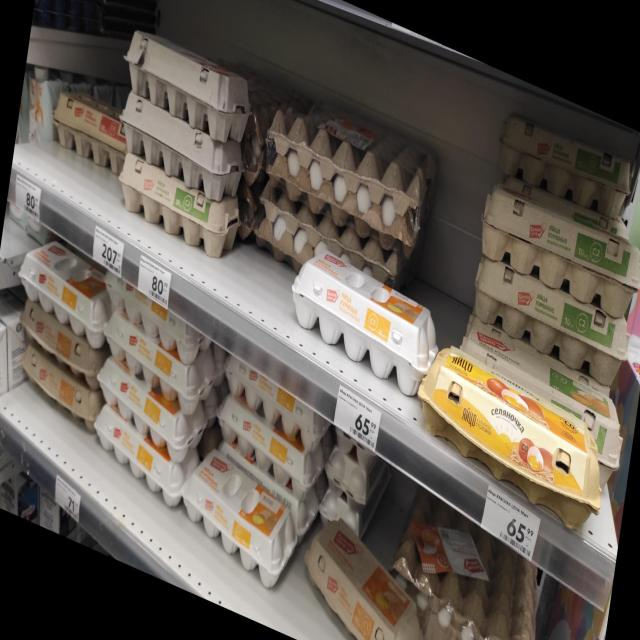organic waste: (412, 336, 611, 540), (284, 238, 442, 403), (472, 178, 640, 327), (466, 249, 633, 392), (176, 436, 302, 594), (489, 99, 637, 231), (295, 512, 431, 640), (115, 149, 243, 266), (100, 312, 216, 420), (92, 358, 208, 466), (210, 392, 326, 500), (323, 444, 372, 501), (318, 484, 366, 540)
